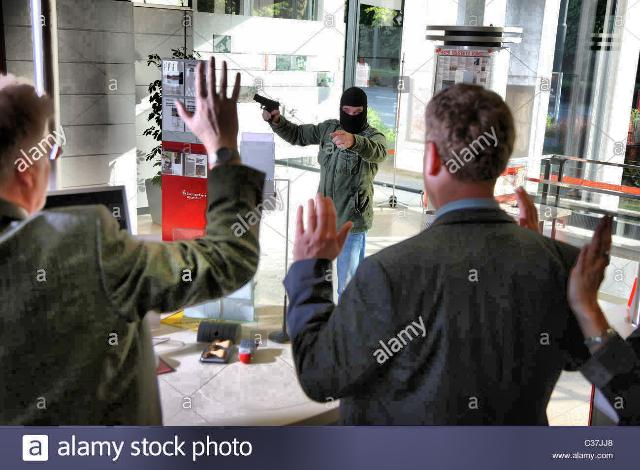pistol: (252, 94, 280, 123)
